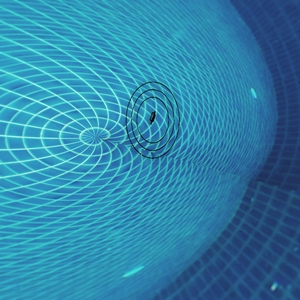circle: (118, 68, 195, 172)
submarine: (151, 115, 157, 123)
